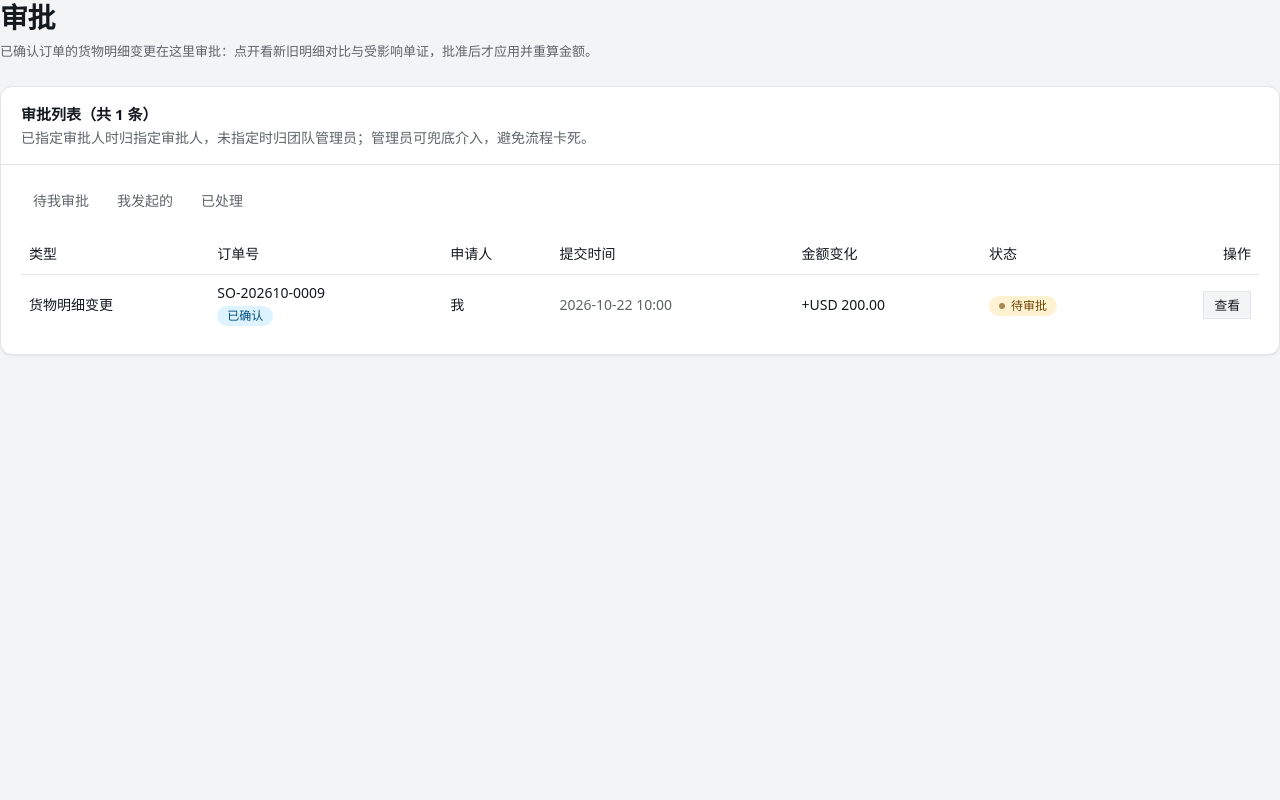
Test: 审批详情与决策 › 自批提示：申请人=当前用户时说明默认不能自批（单人团队由内核放行）
Step 1. Click the button "查看" → coordinates (1227, 305), box [1203,291,1251,319]
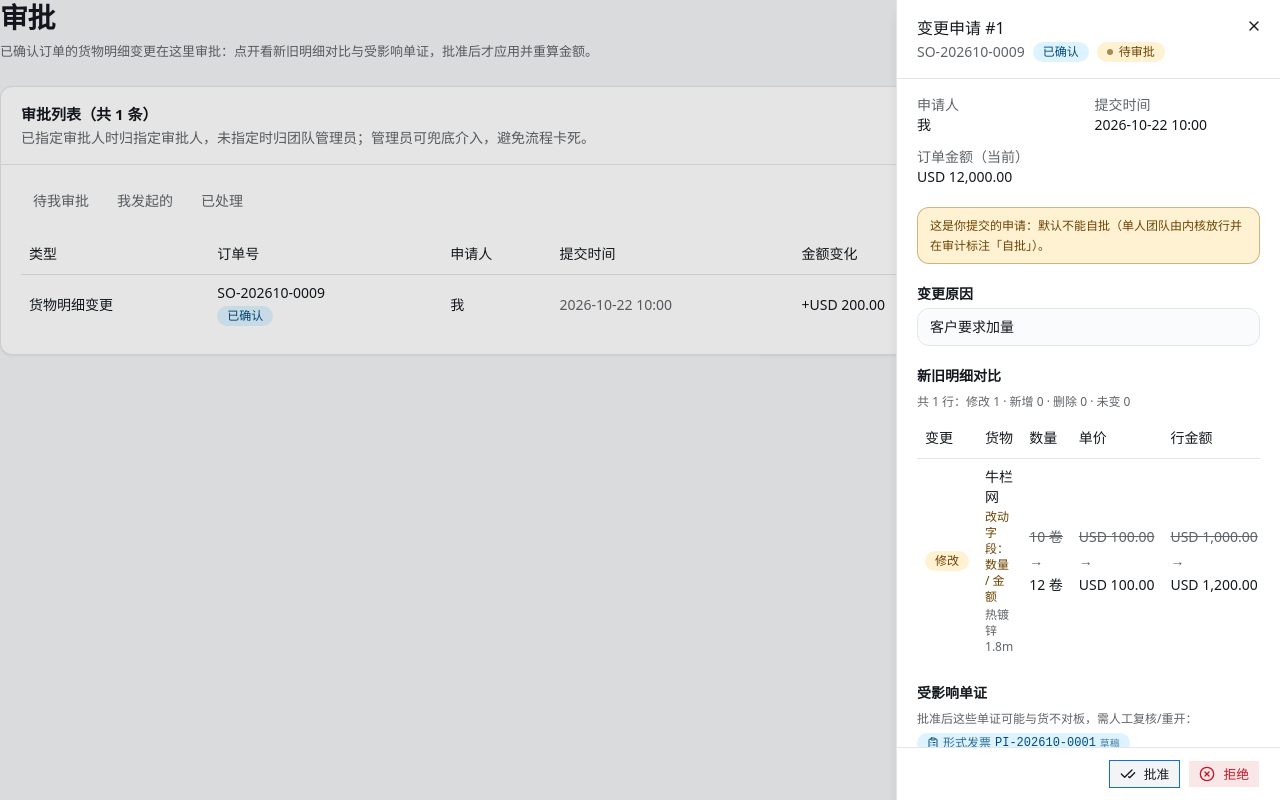
Now the text "默认不能自批" is shown, box [930,217,1242,254]
